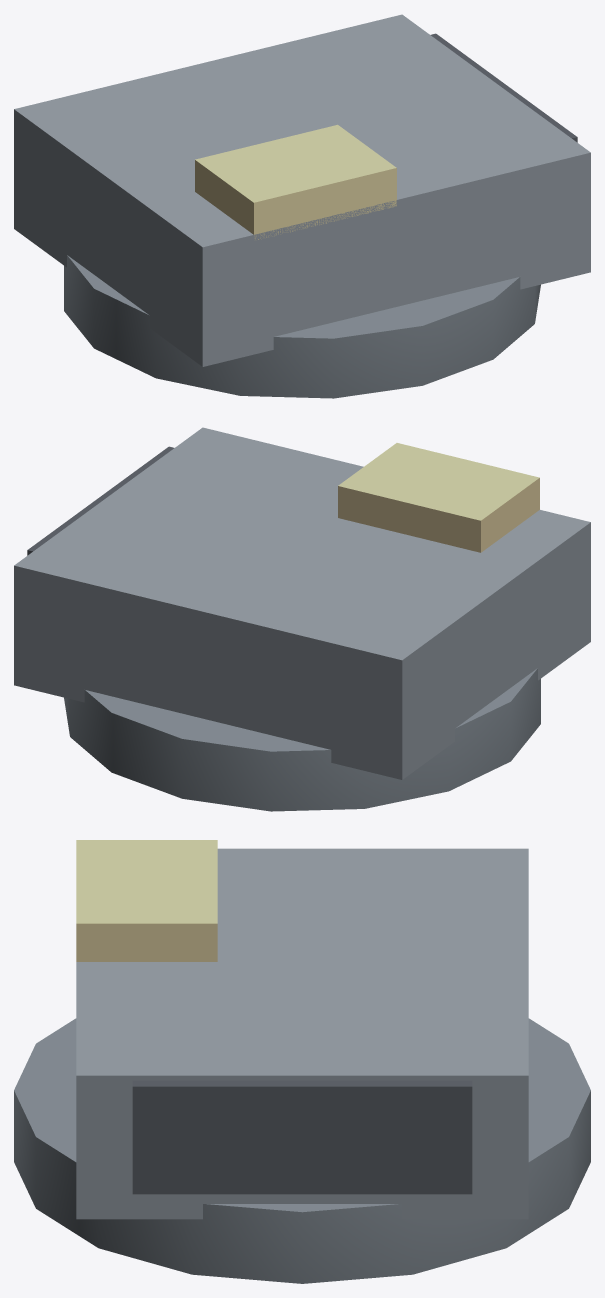
3 views of the same model, one above another, from view 1: azimuth 30°, elevation 25°; view 2: azimuth 150°, elevation 25°; view 3: azimuth 270°, elevation 25° (orthographic). The views are drawn at different scales.
Visible parts, largest first — view 1: t_mg; view 2: t_mg; view 3: t_mg.
Part boxes in pixels (<box>): t_mg: <box>14,14,590,398</box>; t_mg: <box>14,427,590,811</box>; t_mg: <box>14,840,590,1283</box>.
Bounding box in the file's own units: 2.04 × 0.93 × 2.04.
